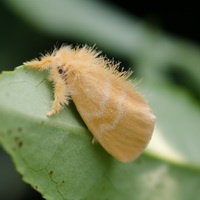insect: (24, 45, 155, 161)
